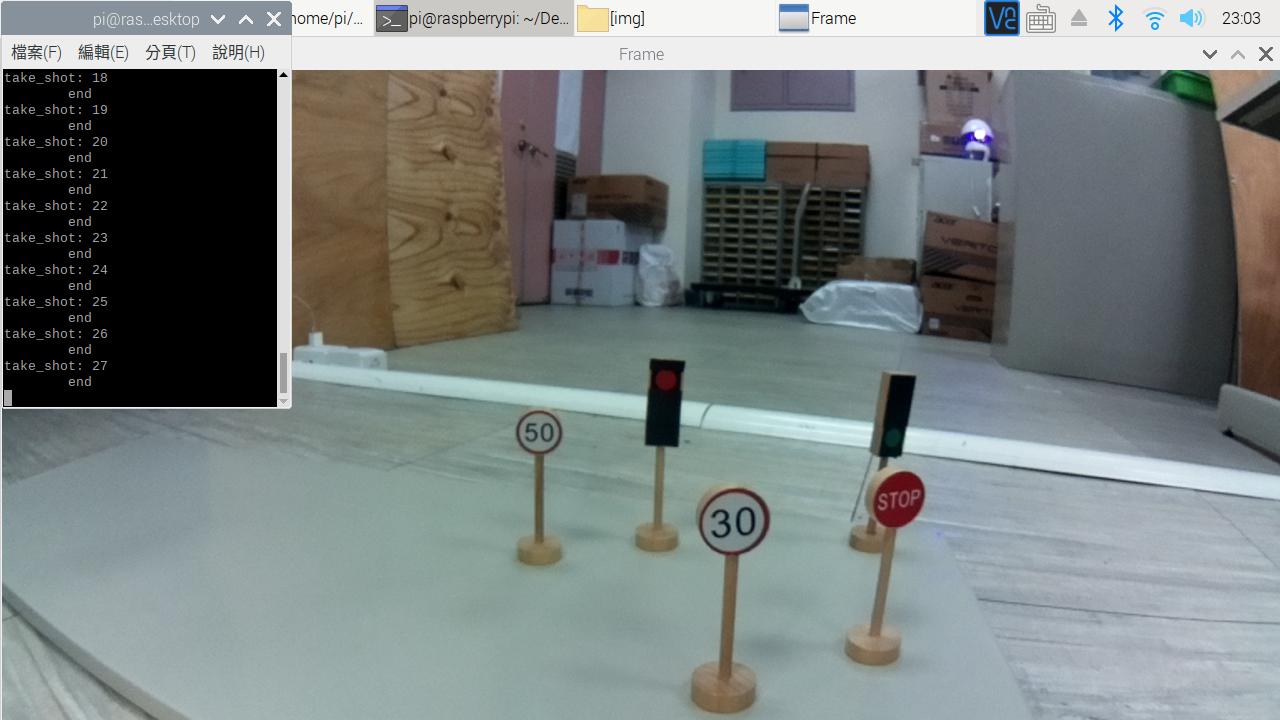Green: (881, 369, 901, 455)
Red: (648, 359, 679, 447)
Speed30: (699, 483, 772, 559)
Speed50: (507, 408, 564, 453)
Stop: (871, 470, 928, 525)
